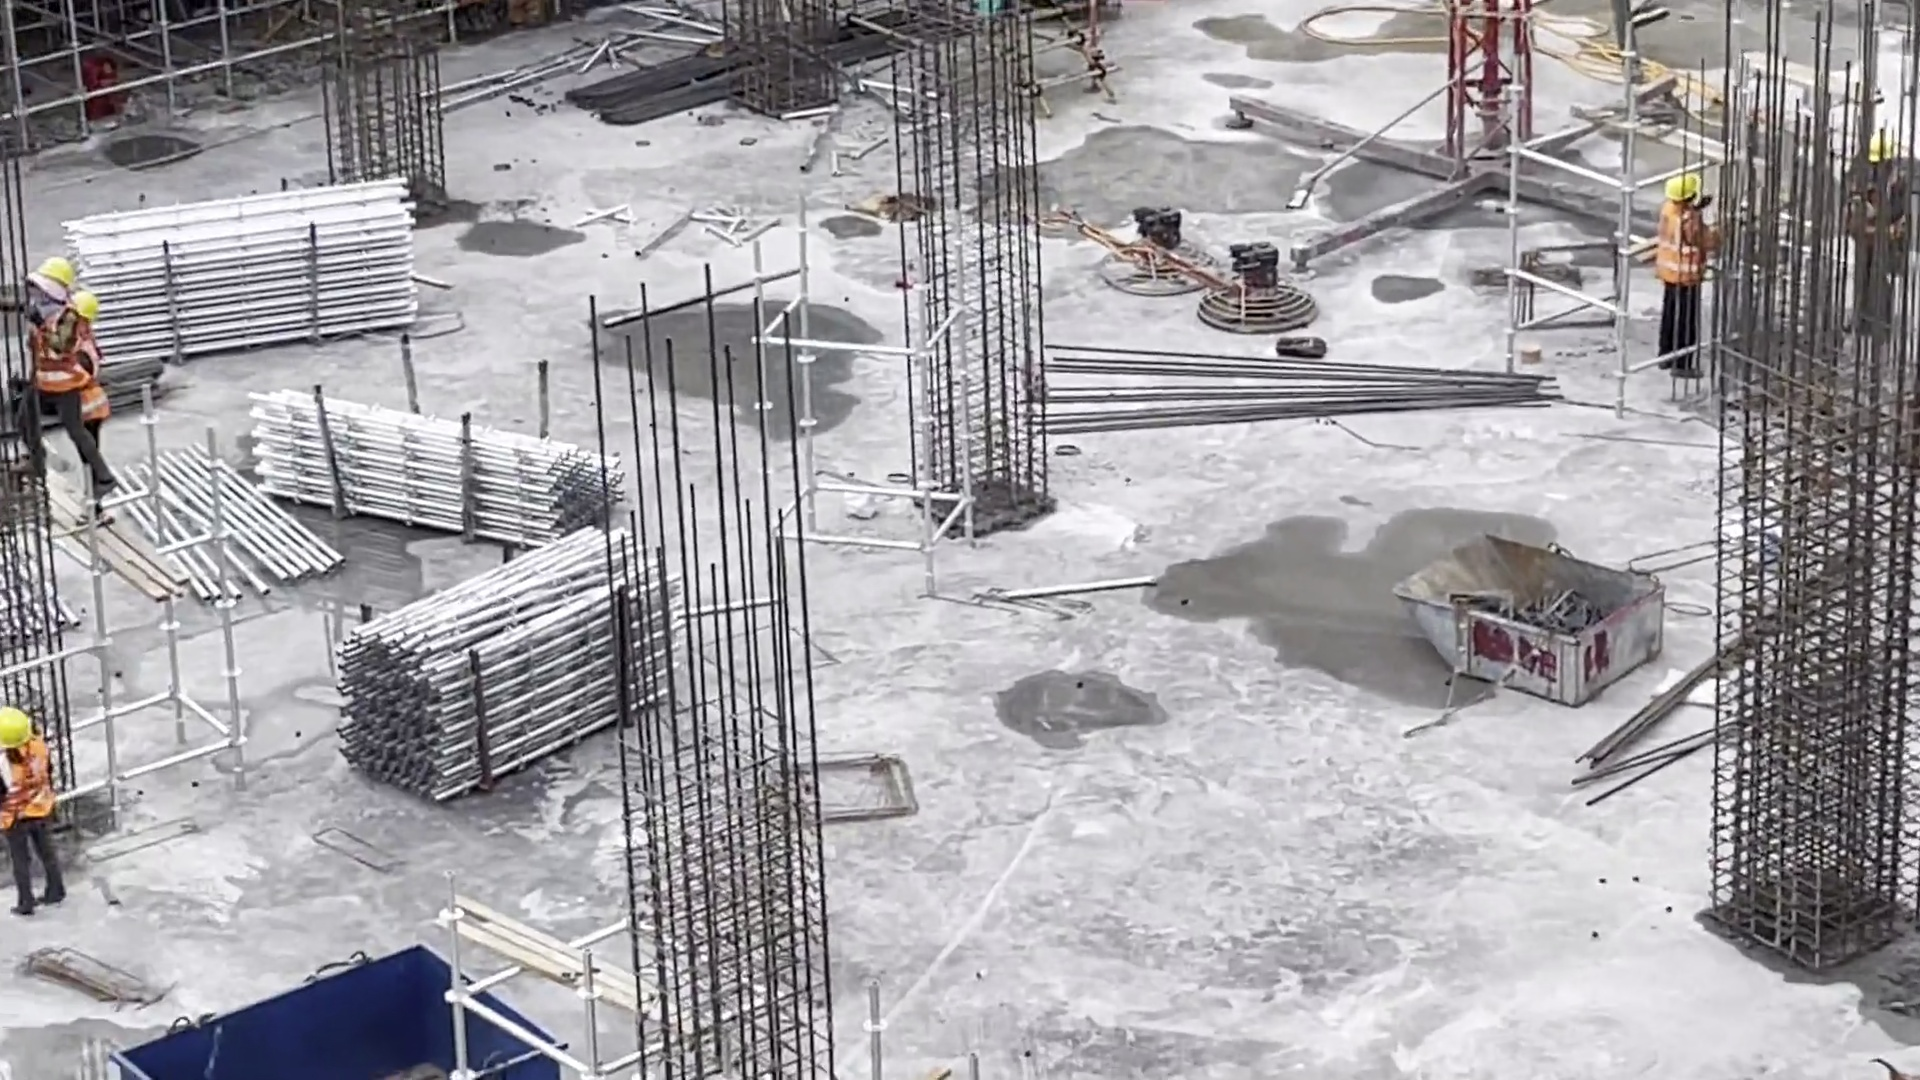helmet: (40, 249, 86, 290), (1665, 172, 1709, 208), (67, 292, 106, 327), (5, 706, 36, 746)
hopper: (1395, 536, 1662, 709)
person: (15, 244, 112, 505), (2, 702, 72, 919), (1661, 164, 1723, 407), (63, 291, 123, 504)
rebar: (1064, 349, 1569, 428)
scaffold: (340, 539, 686, 795), (253, 382, 632, 540), (77, 196, 429, 340)
vest: (6, 741, 62, 833), (20, 313, 81, 390), (67, 341, 119, 428), (1665, 221, 1704, 287)
